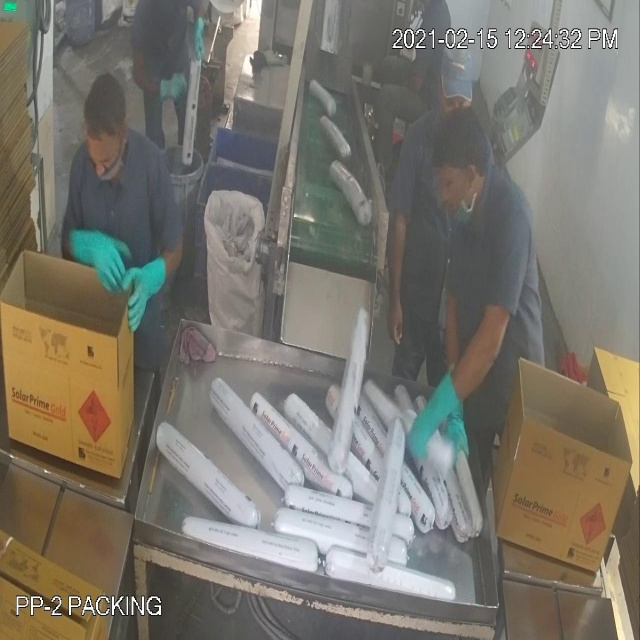Guantes: (405, 355, 462, 468), (61, 211, 130, 300), (123, 245, 180, 337)
Sin_guantes: (386, 194, 412, 360)
